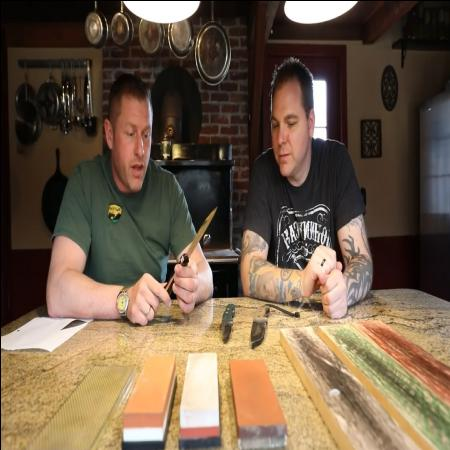long weapon: (169, 194, 221, 292)
